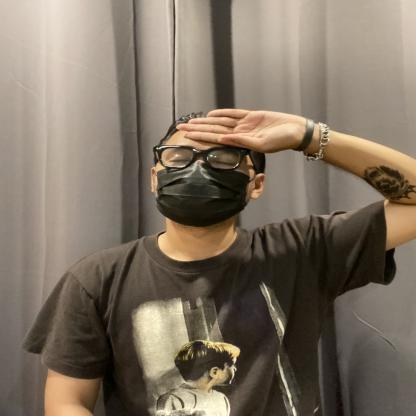Sick: (78, 86, 369, 213)
